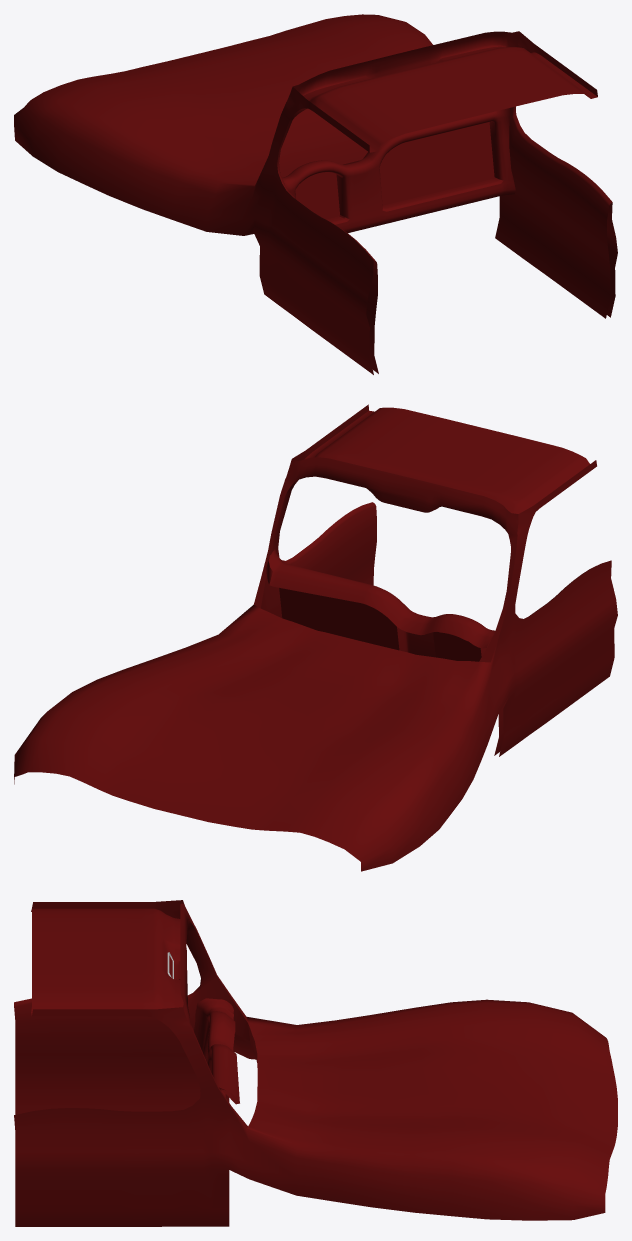
Rendered from CarMesh.FBX.
The picture shows the model from 3 angles, top to bottom: view 1: azimuth 30°, elevation 25°; view 2: azimuth 150°, elevation 25°; view 3: azimuth 270°, elevation 25°; orthographic projection. The views are drawn at different scales.
Visible parts, largest first — view 1: Carosserie, Dash Base; view 2: Carosserie, Dash Base; view 3: Carosserie, Dash Base.
Boxes of the visible parts, x1,y1,x2,y2 form: Carosserie: [14, 14, 617, 374]; Dash Base: [282, 108, 515, 232]; Carosserie: [14, 404, 617, 871]; Dash Base: [266, 549, 495, 661]; Carosserie: [14, 900, 617, 1226]; Dash Base: [194, 998, 239, 1104].
Size of the model in its own units: 1765 by 1015 by 2462.
